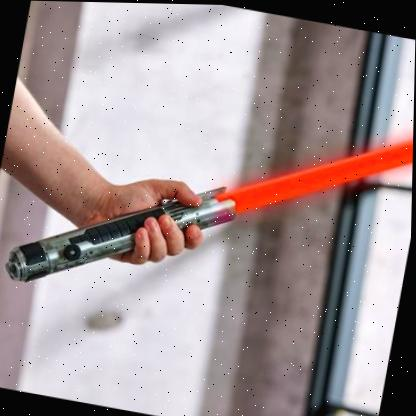lightsaber: (0, 56, 415, 353)
